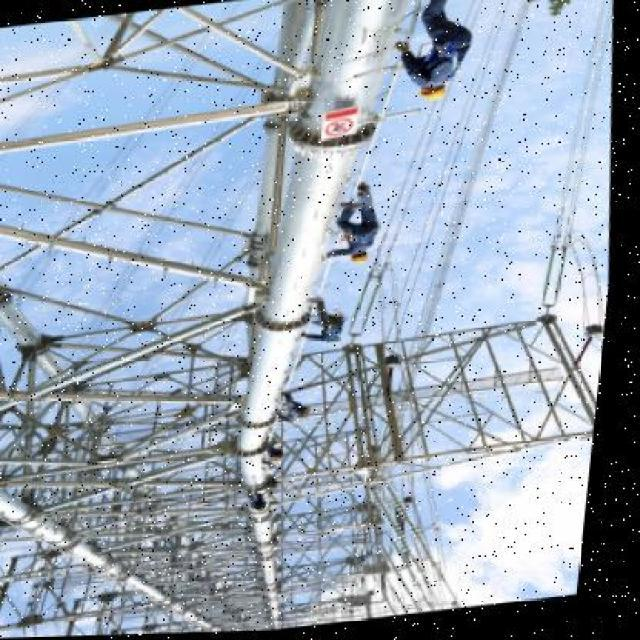helmet: (414, 85, 451, 105), (352, 251, 378, 265)
